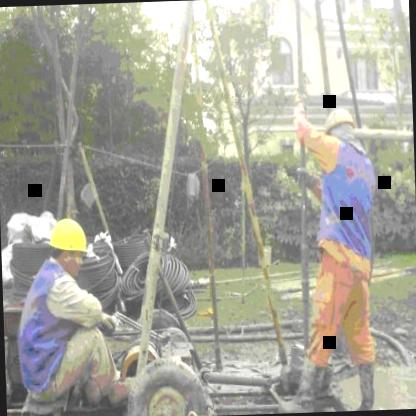helmet: (46, 212, 91, 276), (325, 107, 359, 149)
